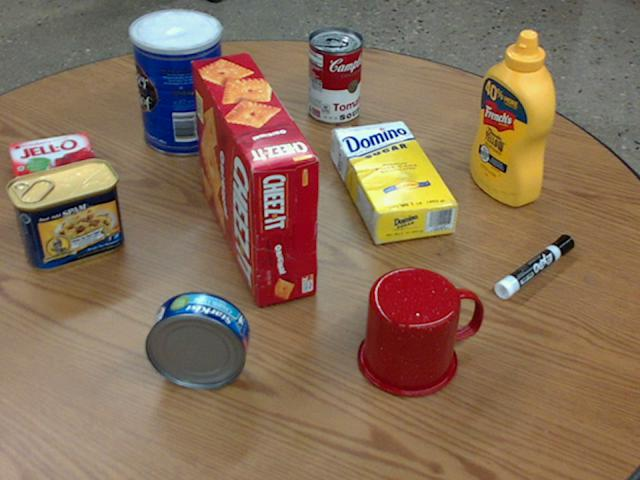cracker_box: (189, 53, 318, 305)
gelatin_box: (8, 131, 96, 193)
large_marker: (495, 235, 574, 299)
master_chef_can: (129, 9, 224, 155)
mug: (358, 266, 482, 396)
mustard_bottle: (470, 31, 555, 205)
potted_meat_can: (6, 157, 122, 269)
sugar_box: (331, 121, 457, 242)
tomato_soup_can: (307, 26, 363, 123)
tuna_fish_can: (146, 292, 250, 388)
